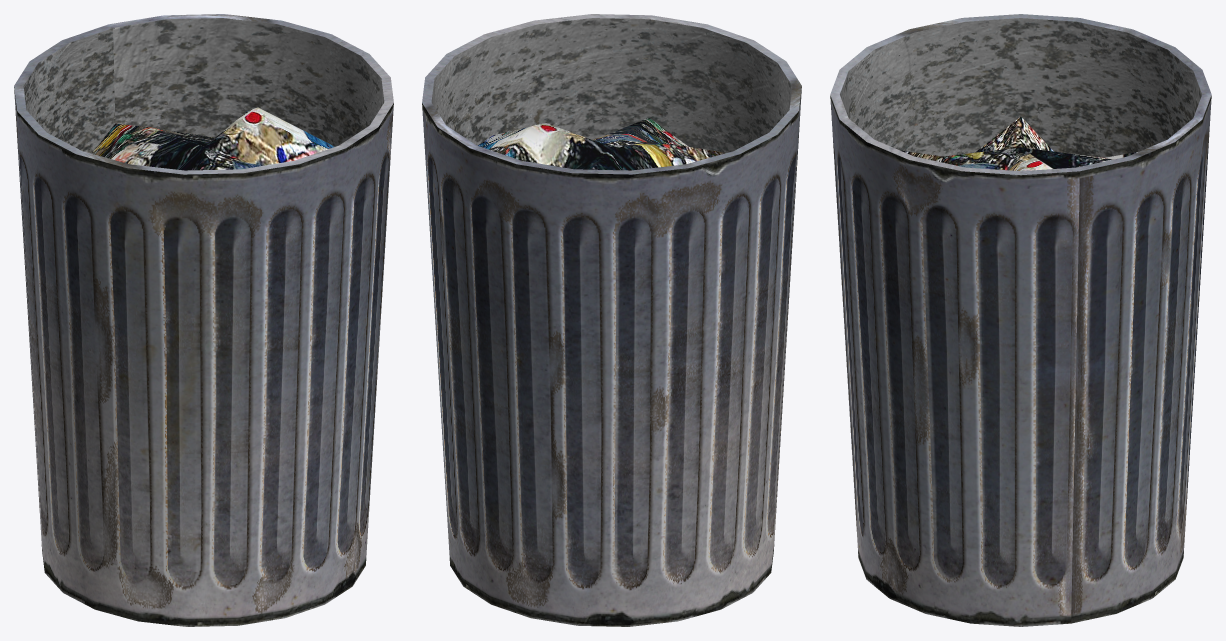
File: garbagecan_full.fbx
3 renders of one model, left to right at view 1: azimuth 30°, elevation 25°; view 2: azimuth 150°, elevation 25°; view 3: azimuth 270°, elevation 25°, orthographic.
Parts seen in each view (by area): view 1: garbage_in_can; view 2: garbage_in_can; view 3: garbage_in_can.
Part boxes in pixels (<box>): garbage_in_can: <box>14,14,393,626</box>; garbage_in_can: <box>422,14,801,626</box>; garbage_in_can: <box>830,14,1211,626</box>.
Bounding box in the file's own units: 0.7888 × 1.06 × 0.7888.
